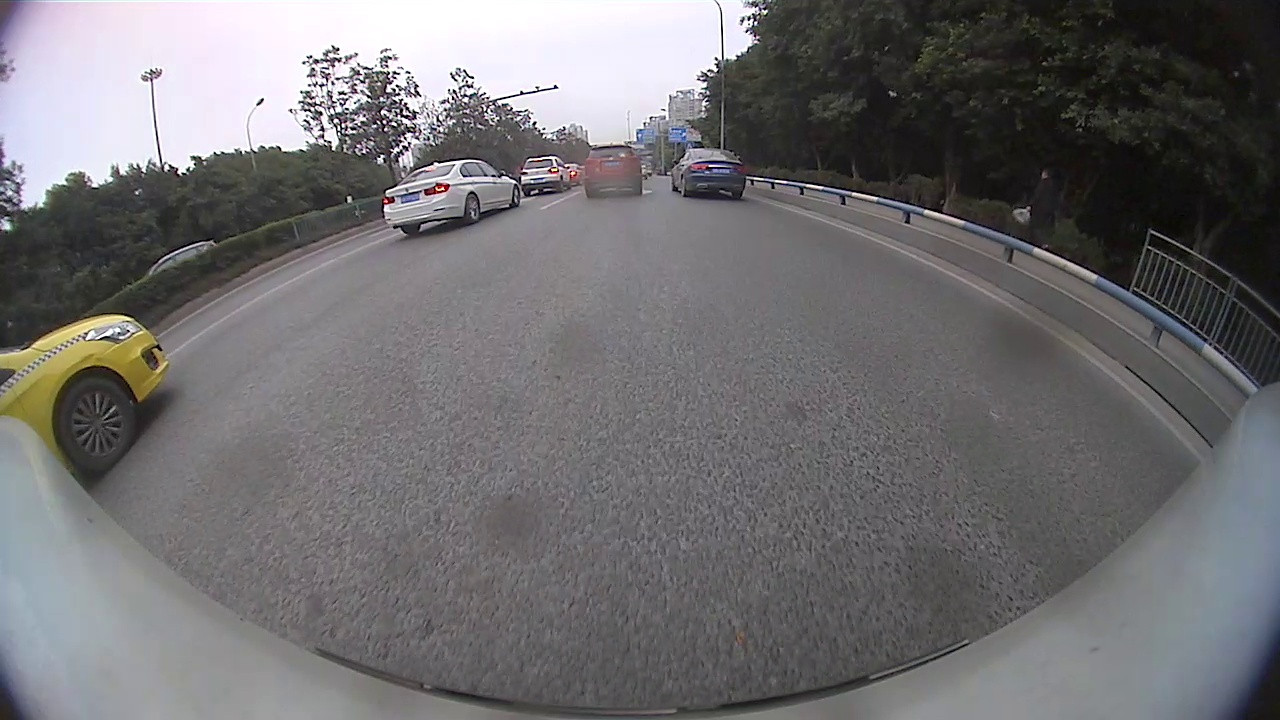car: (1, 313, 173, 477), (380, 156, 523, 236), (668, 145, 748, 202), (583, 143, 645, 202), (143, 238, 220, 280), (518, 153, 575, 196)
front: (57, 376, 139, 471), (509, 186, 522, 210)
person: (1036, 165, 1059, 251)
rear: (466, 194, 484, 225)
